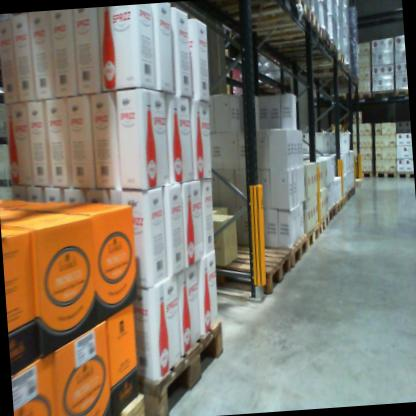pallet: (134, 320, 236, 416), (198, 238, 291, 306), (244, 11, 326, 48), (250, 237, 313, 285), (227, 0, 312, 26), (273, 28, 333, 53), (108, 390, 149, 416), (303, 217, 327, 260), (297, 50, 345, 71), (290, 42, 338, 62), (325, 91, 350, 105), (370, 87, 397, 99), (349, 89, 372, 103), (334, 193, 347, 216), (373, 168, 397, 180), (327, 205, 338, 226), (319, 210, 330, 231), (357, 168, 374, 181), (397, 168, 414, 179), (394, 87, 409, 97), (341, 192, 349, 208), (346, 189, 353, 207), (351, 183, 358, 199), (356, 177, 364, 188)
